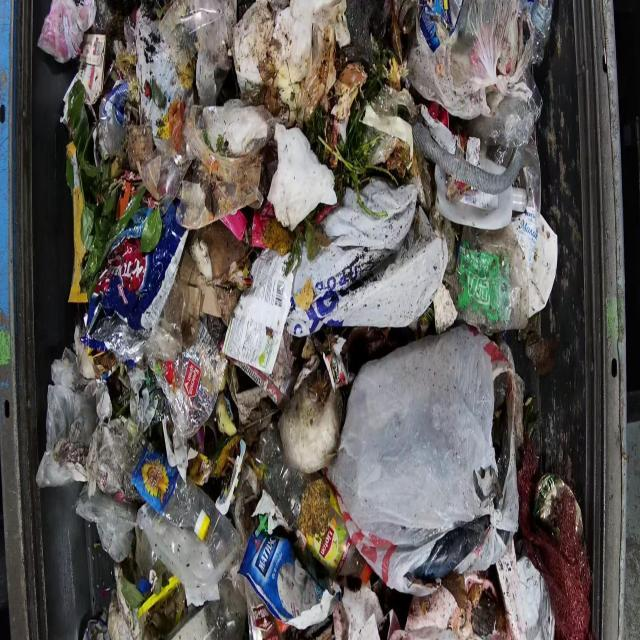trash: (22, 0, 619, 639)
